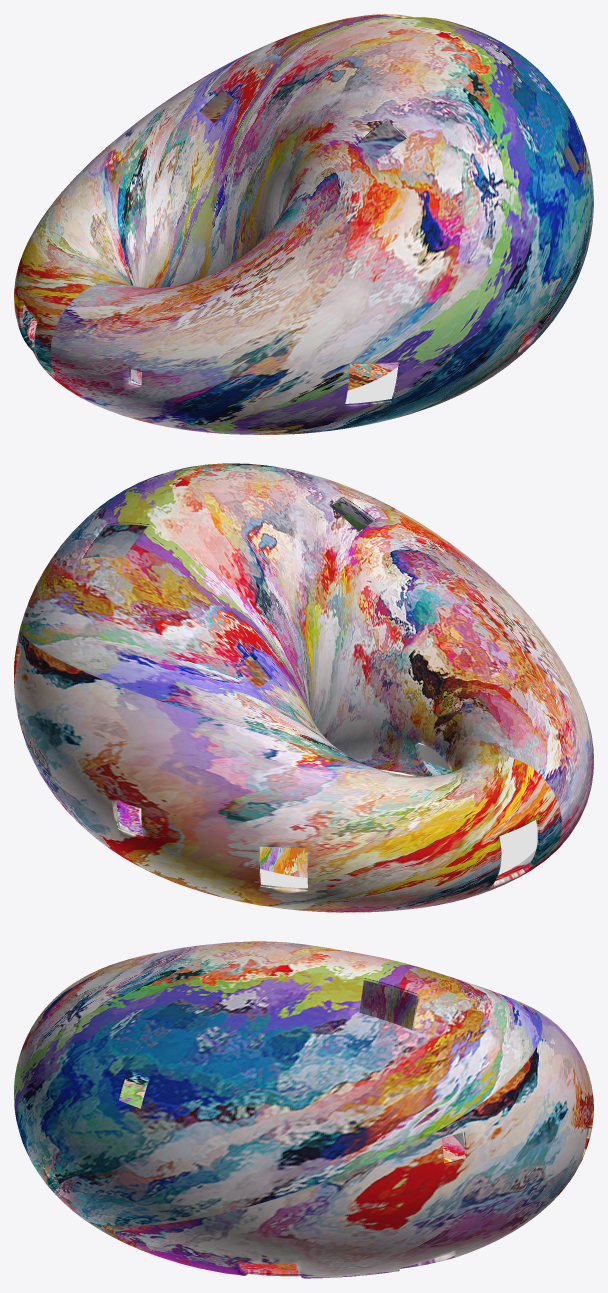
3 views of the same model, one above another, from view 1: azimuth 30°, elevation 25°; view 2: azimuth 150°, elevation 25°; view 3: azimuth 270°, elevation 25° (orthographic). The views are drawn at different scales.
Parts seen in each view (by area): view 1: Solids, Ramps_2; view 2: Solids, Ramps_2; view 3: Solids.
Part boxes in pixels (bbox=[...]): Solids: bbox=[14, 14, 593, 434]; Ramps_2: bbox=[130, 366, 398, 403]; Solids: bbox=[14, 463, 593, 912]; Ramps_2: bbox=[139, 743, 537, 888]; Solids: bbox=[14, 941, 593, 1278].
Size of the model in its own units: 50.3 by 27.69 by 47.8.
Materials: 2 (2 with a texture image).
